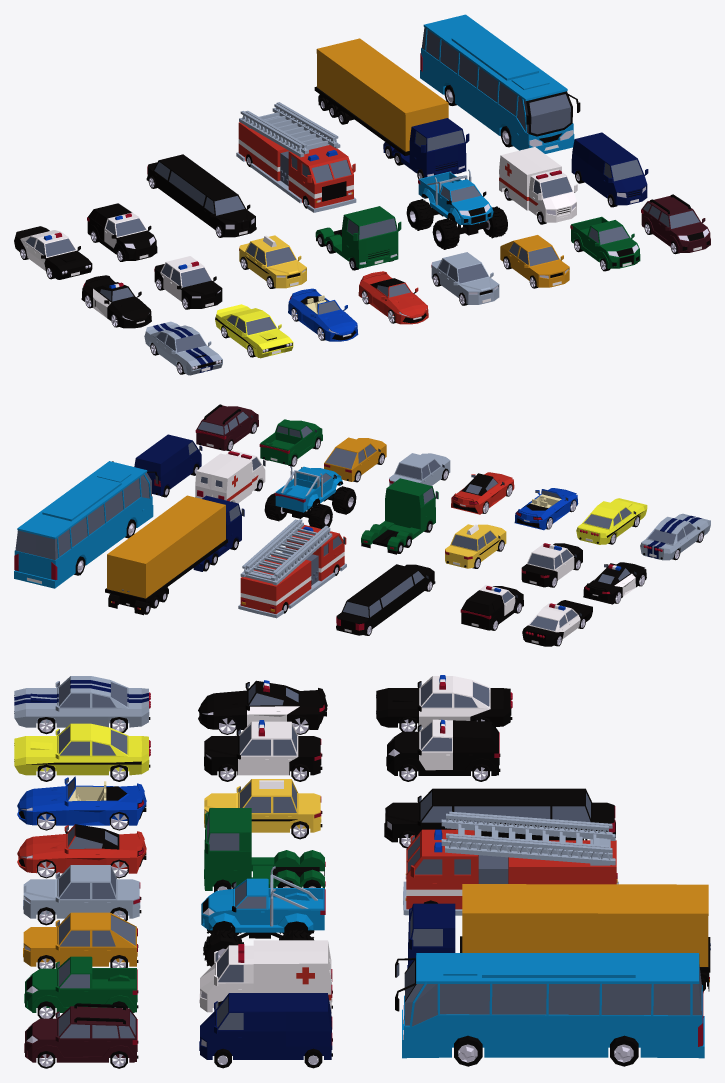
Rendered from pack.glb.
3 views of the same model, one above another, from view 1: azimuth 30°, elevation 25°; view 2: azimuth 150°, elevation 25°; view 3: azimuth 270°, elevation 25° (orthographic). The views are drawn at different scales.
Visible parts, largest first — view 1: Bus, Truck with trailer, Firetruck, Limousine, Ambulance, Van, Truck, Monster Truck, SUV, Police SUV, Muscle 2, Muscle (+11 smaller); view 2: Bus, Truck with trailer, Firetruck, Limousine, Truck, Ambulance, Van, Monster Truck, Muscle, Muscle 2, Police Muscle, SUV (+11 smaller); view 3: Bus, Truck with trailer, Firetruck, Van, Limousine, Ambulance, Monster Truck, Muscle, Truck, SUV, Muscle 2, Police SUV (+12 smaller).
Boxes of the visible parts, <box> form: Bus: <box>420,14,580,153</box>; Truck with trailer: <box>314,38,469,177</box>; Firetruck: <box>236,102,356,212</box>; Limousine: <box>146,154,256,237</box>; Ambulance: <box>499,147,577,222</box>; Van: <box>571,132,648,205</box>; Truck: <box>315,206,401,268</box>; Monster Truck: <box>418,169,493,235</box>; SUV: <box>641,194,710,252</box>; Police SUV: <box>87,203,157,260</box>; Muscle 2: <box>144,321,222,375</box>; Muscle: <box>215,304,293,358</box>; Bus: <box>14,461,158,588</box>; Truck with trailer: <box>105,495,244,615</box>; Firetruck: <box>238,519,346,618</box>; Limousine: <box>336,564,435,635</box>; Truck: <box>361,478,438,554</box>; Ambulance: <box>195,450,265,503</box>; Van: <box>134,434,202,495</box>; Monster Truck: <box>275,466,343,518</box>; Muscle: <box>576,498,647,544</box>; Muscle 2: <box>640,513,710,560</box>; Police Muscle: <box>522,600,592,646</box>; SUV: <box>195,404,258,450</box>; Bus: <box>395,953,704,1058</box>; Truck with trailer: <box>407,884,710,991</box>; Firetruck: <box>403,811,618,915</box>; Van: <box>199,993,332,1059</box>; Limousine: <box>384,788,615,842</box>; Ambulance: <box>199,940,332,1013</box>; Monster Truck: <box>201,866,325,938</box>; Muscle: <box>14,723,150,775</box>; Truck: <box>204,808,325,890</box>; SUV: <box>24,1003,138,1062</box>; Muscle 2: <box>14,676,150,727</box>; Police SUV: <box>386,719,500,775</box>.
Size of the model in its own units: 37.81 by 4.3 by 30.82.
